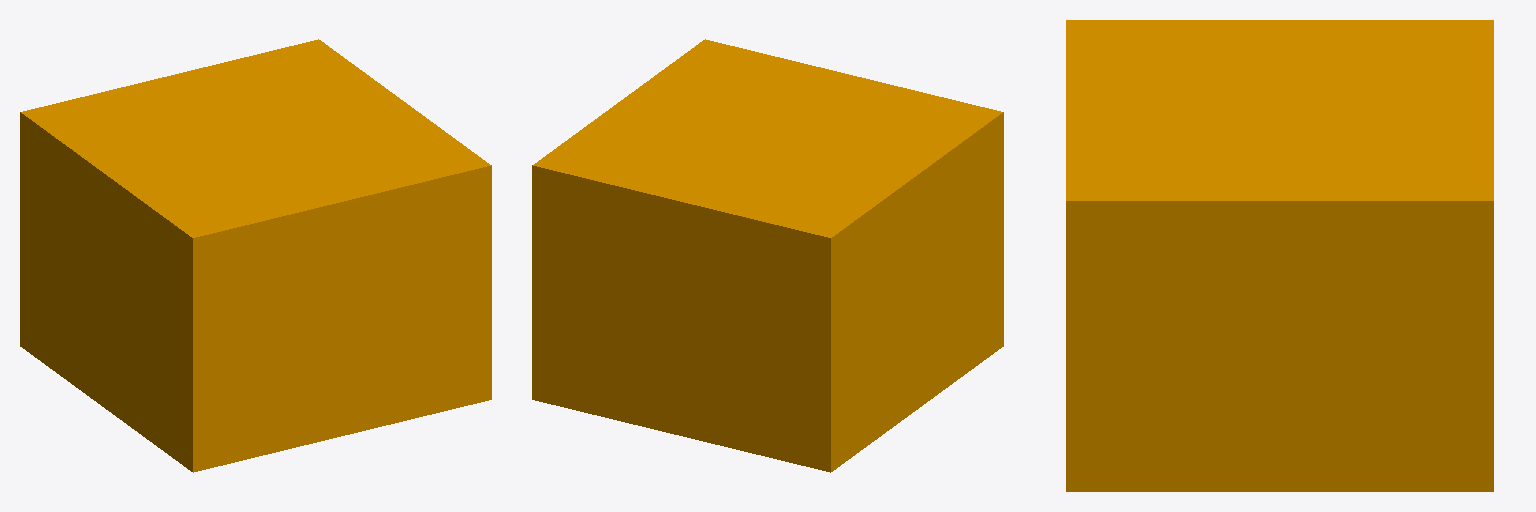
URDF robot description (root):
<robot name="root">
  <link name="link_original">
    <visual>
      <origin xyz="0 0 0" rpy="0 0 0"/>
      <geometry>
        <mesh filename="cube_xlarge.stl" scale="1 1 1"/>
      </geometry>
    </visual>
    <collision>
      <origin xyz="0 0 0" rpy="0 0 0"/>
      <geometry>
        <mesh filename="coacd_allinone.obj" scale="1 1 1"/>
      </geometry>
    </collision>
  </link>
</robot>

--- Render facts (derived) ---
The picture shows the robot from 3 angles, left to right: view 1: azimuth 30°, elevation 25°; view 2: azimuth 150°, elevation 25°; view 3: azimuth 270°, elevation 25°; orthographic projection.
Robot: root — 1 links, 0 joints (none); root link link_original; default pose: all joints at 0.
Links seen in each view (by area): view 1: link_original; view 2: link_original; view 3: link_original.
Boxes of the visible links, x1=… form: link_original: x1=20, y1=39, x2=491, y2=472; link_original: x1=532, y1=39, x2=1003, y2=472; link_original: x1=1066, y1=20, x2=1493, y2=491.
Size in the robot's own frame: 0.24 by 0.24 by 0.18 metres.
1 mesh visuals loaded from 1 distinct referenced files (1 binary STL).
